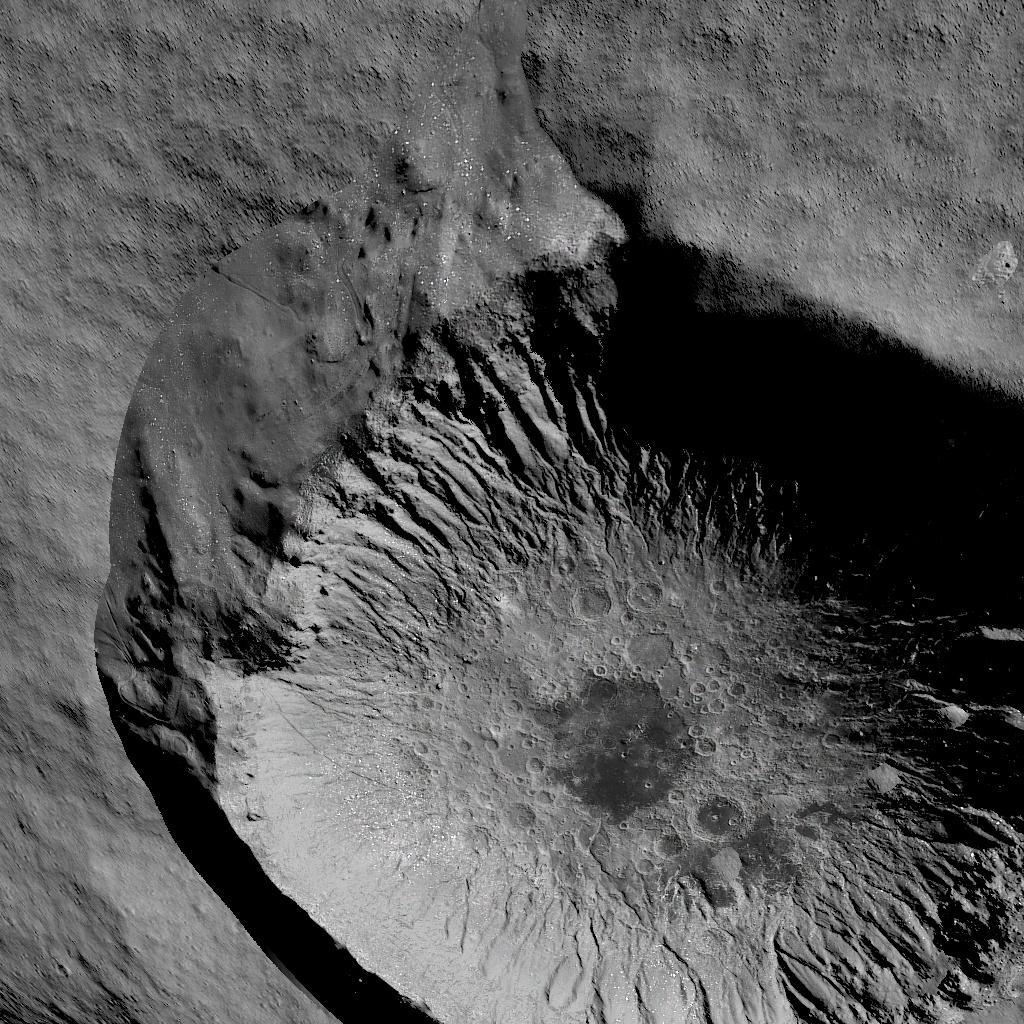Crater: (1, 102, 1024, 1024)
Plan surface: (1, 0, 1024, 83)
